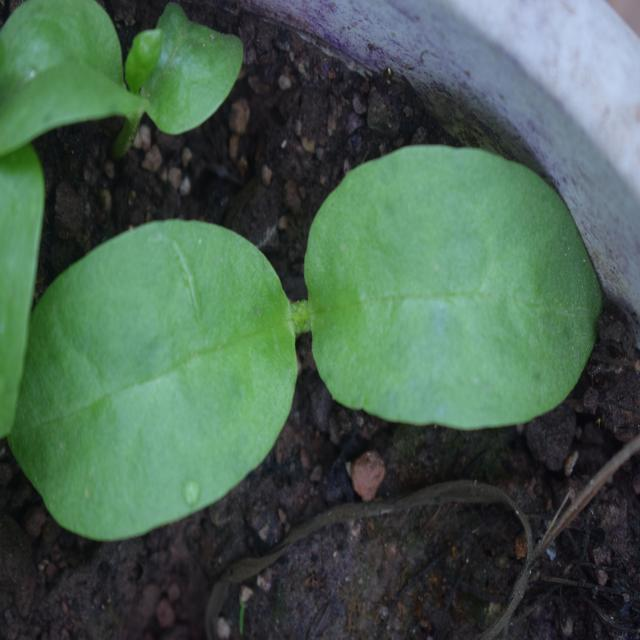Ceylon spinach: (16, 140, 593, 534)
